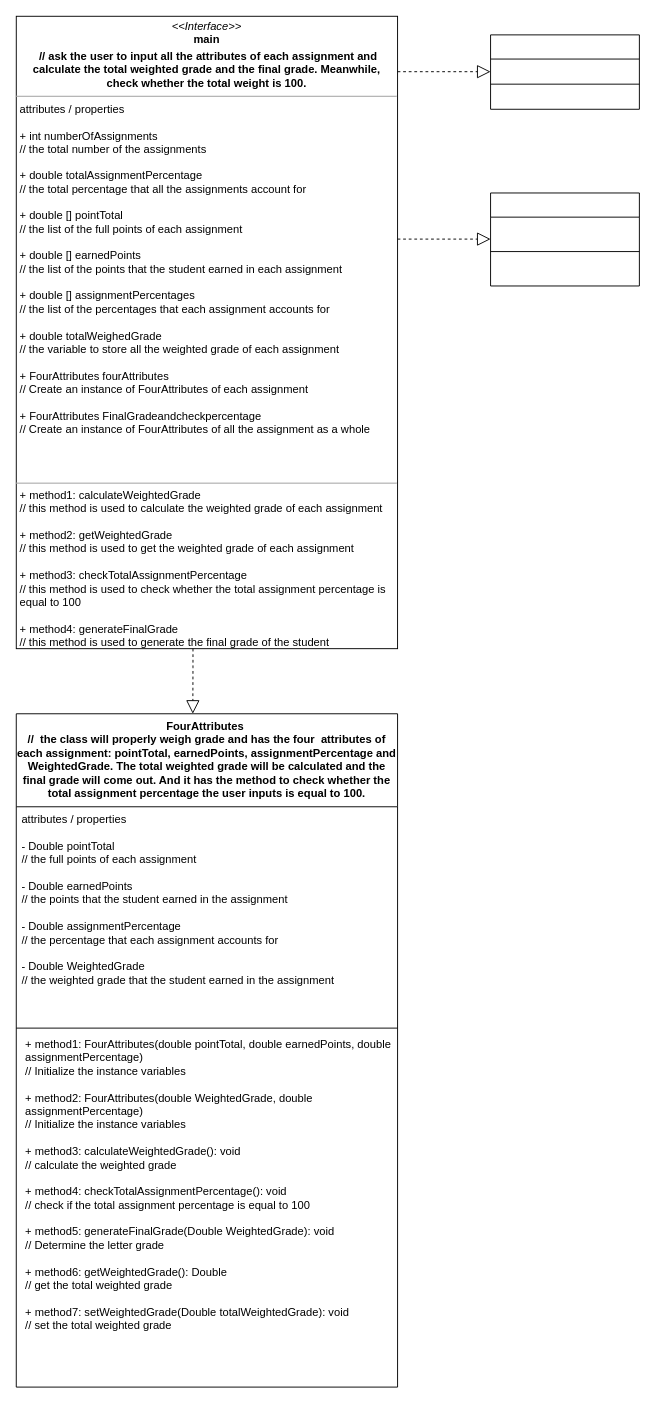
The diagram is 656 pixels wide and 1406 high, and some of its shapes have lost their labels. Here are the shapes that lost their labels. From the top down, the centre of each, then its label:
(x=564, y=71): Scanner
(x=564, y=239): Format
